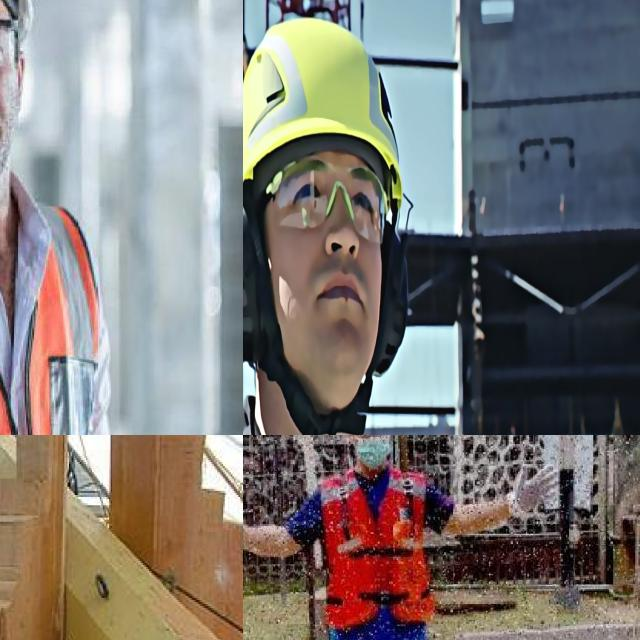Ear-protection: (373, 232, 410, 379), (243, 200, 264, 369)
No_Ear-Protection: (16, 45, 27, 104)
glasses: (270, 152, 394, 248)
head_helmet: (243, 10, 408, 155)
person: (243, 1, 443, 435)
vest: (314, 461, 444, 640)
